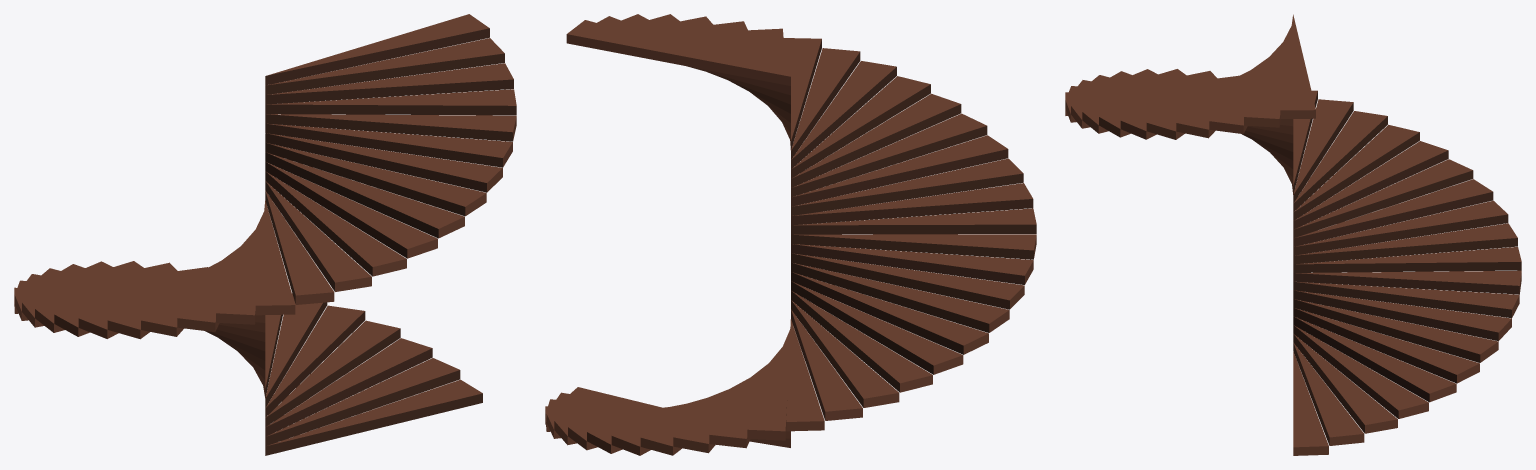
Rendered from stairs20M.glb.
3 renders of one model, left to right at view 1: azimuth 30°, elevation 25°; view 2: azimuth 150°, elevation 25°; view 3: azimuth 270°, elevation 25°, orthographic. The views are drawn at different scales.
Visible parts, largest first — view 1: Circle; view 2: Circle; view 3: Circle.
Part boxes in pixels (x1=…): Circle: x1=14, y1=14, x2=516, y2=455; Circle: x1=545, y1=14, x2=1036, y2=455; Circle: x1=1065, y1=14, x2=1521, y2=455.
Size of what is drawn, in the model's own units: 23.99 by 20 by 23.96.
1 material, 1 textured.
